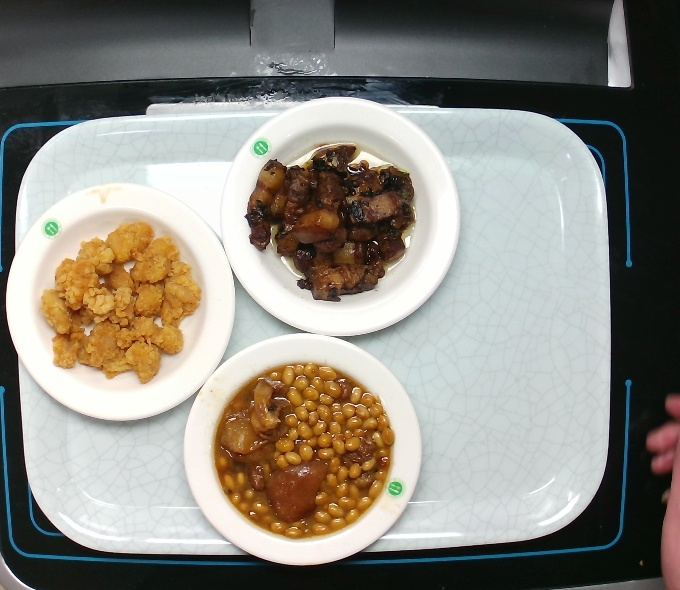wcq-GanCaiRou: (246, 142, 419, 301)
wcq-HuangDouZhuJiao: (214, 359, 396, 542)
wcq-JiMiHua: (38, 221, 202, 385)
